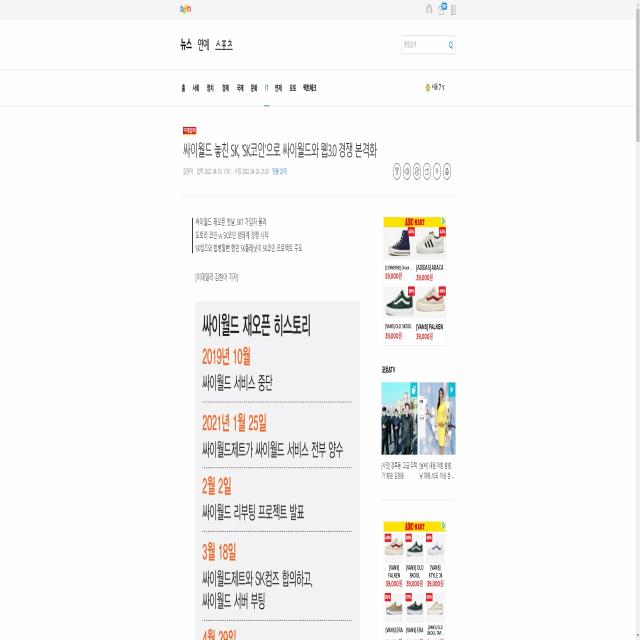menu-bar: (424, 2, 458, 20)
search: (399, 34, 457, 57)
side-panel: (378, 200, 461, 640)
tab-bar: (178, 74, 322, 107), (177, 31, 235, 60)
